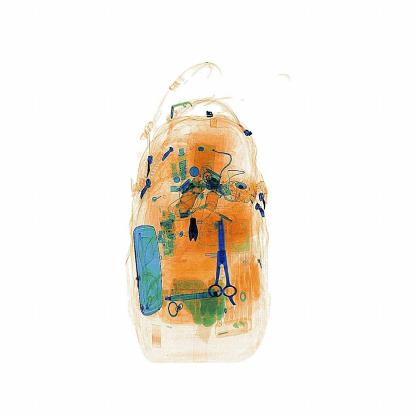gun: (206, 209, 250, 309)
